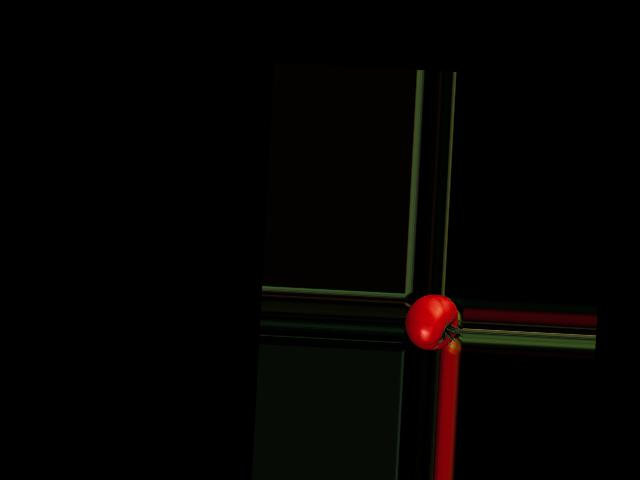tomato: (403, 292, 459, 350)
